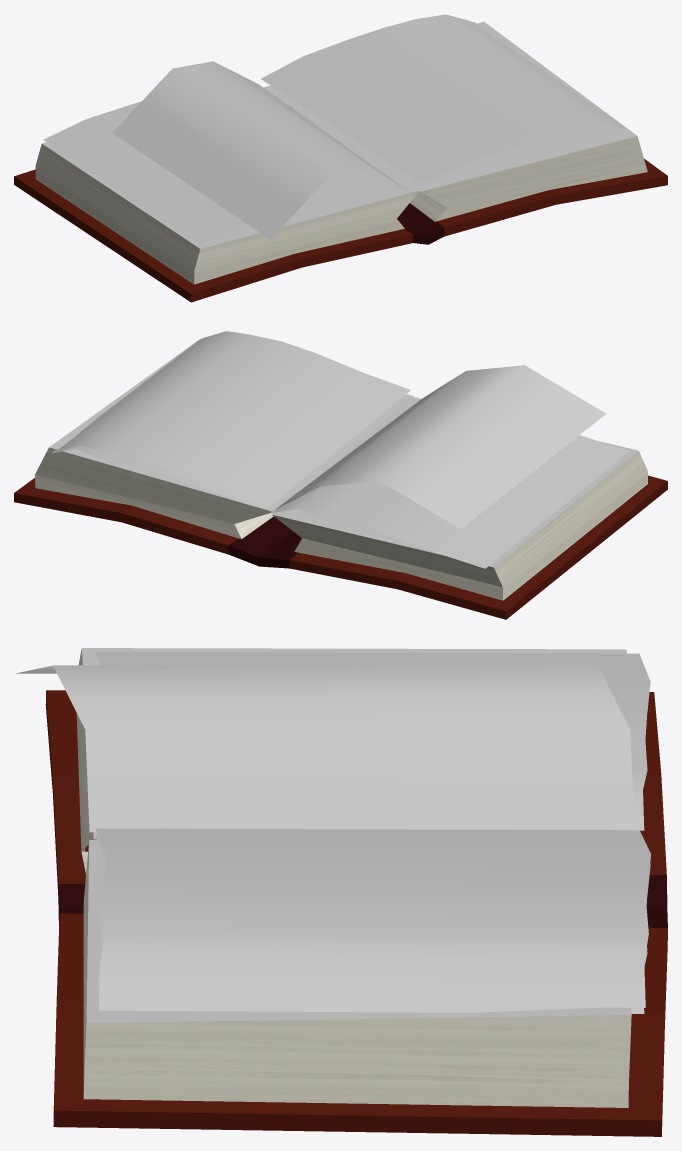
Rendered from KsięgaCzarów 1.fbx.
3 renders of one model, top to bottom at view 1: azimuth 30°, elevation 25°; view 2: azimuth 150°, elevation 25°; view 3: azimuth 270°, elevation 25°, orthographic. The views are drawn at different scales.
Visible parts, largest first — view 1: księga, kartka.002, kartka, kartka.003, kartka.001; view 2: księga, kartka.002, kartka, kartka.003, kartka.001; view 3: kartka.002, księga, kartka, kartka.003, kartka.001.
Part boxes in pixels (x1,y1,x2,y2): księga: (14, 21, 667, 302); kartka.002: (261, 14, 625, 182); kartka: (112, 61, 409, 239); kartka.003: (43, 101, 406, 243); kartka.001: (421, 22, 628, 184); księga: (14, 340, 667, 619); kartka.002: (54, 331, 410, 507); kartka: (273, 365, 606, 528); kartka.003: (273, 398, 629, 568); kartka.001: (51, 338, 265, 508); kartka.002: (95, 828, 651, 1007); księga: (45, 648, 667, 1136); kartka: (15, 665, 634, 832); kartka.003: (95, 651, 650, 830); kartka.001: (95, 835, 650, 1013).
Bounding box in the file's own units: 116 × 22.47 × 74.79.
